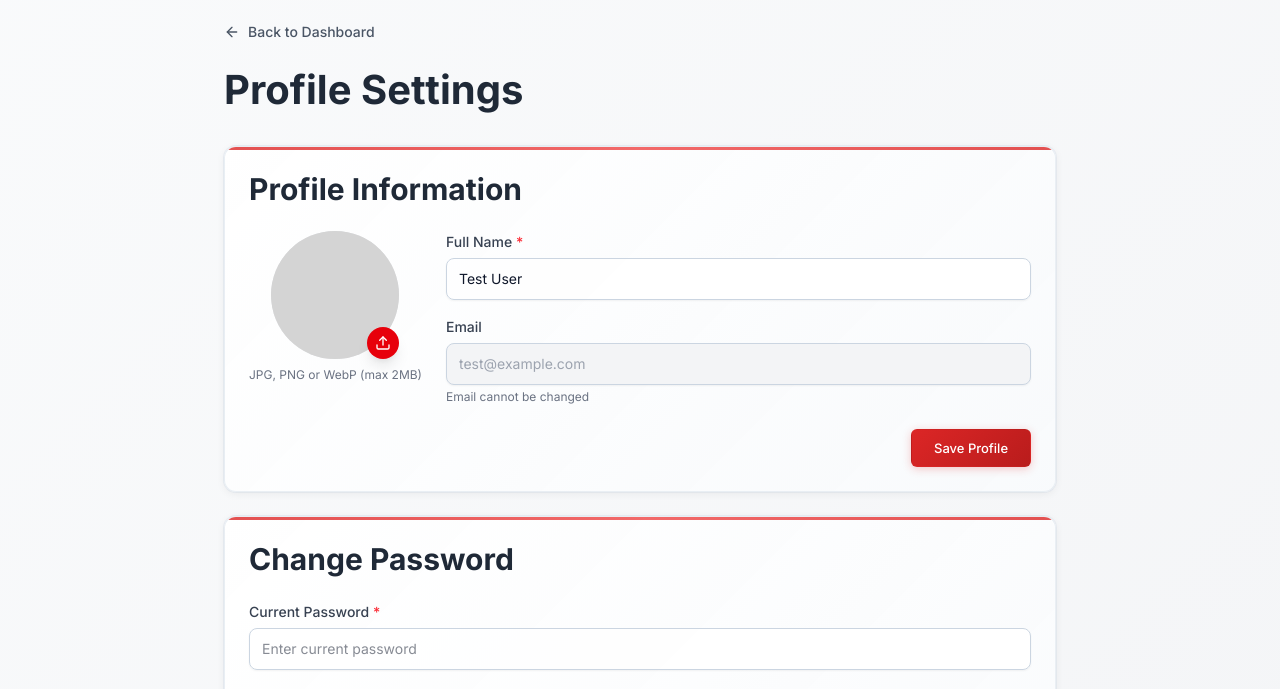
Test: ProfilePage › password form › should show validation error for password mismatch
Type "OldPass123" into the password field labelled "Current Password *" at (640, 649), box x1=249 y1=628 x2=1031 y2=670
(page scrolled)
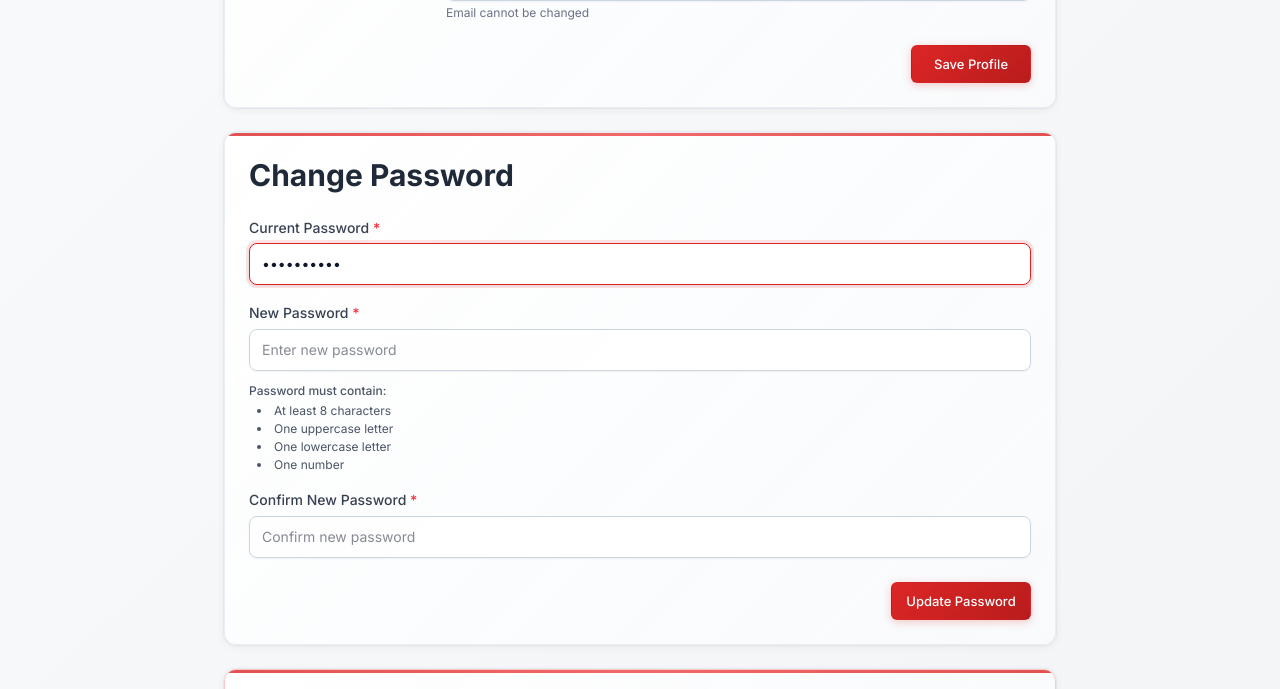
Type "NewPass123" into the password field labelled "New Password *" at (640, 350), box x1=249 y1=329 x2=1031 y2=371
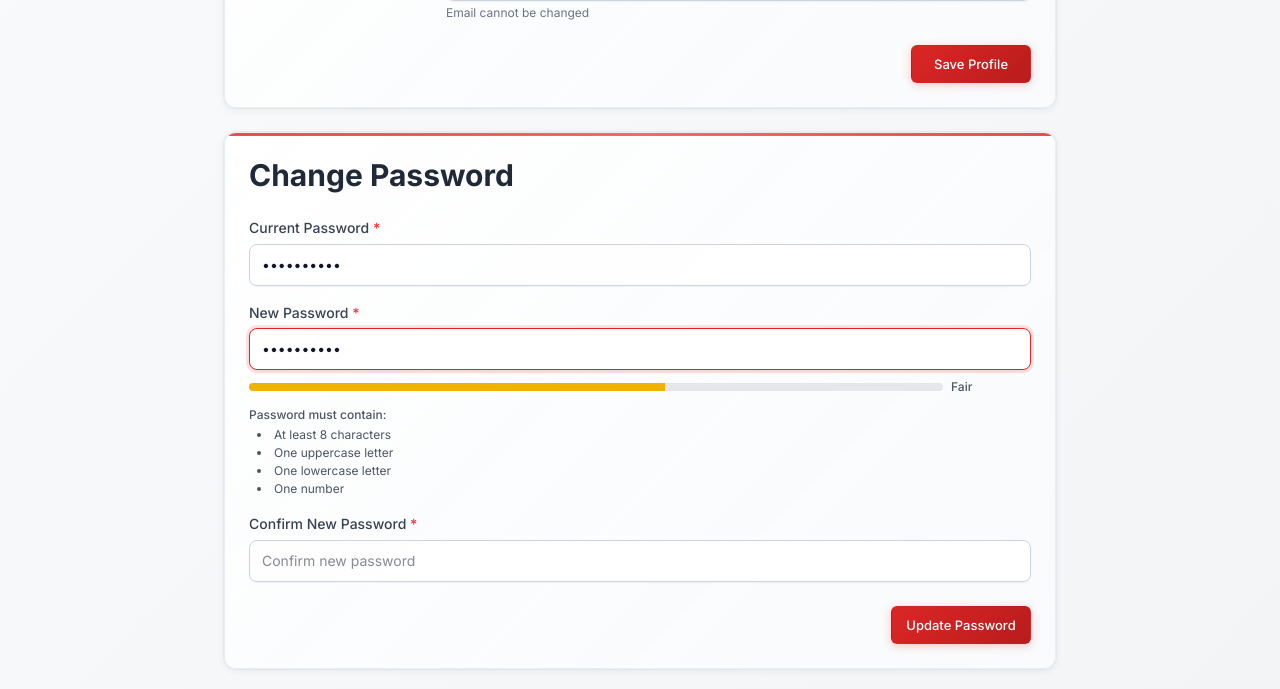
Type "DifferentPass123" into the password field labelled "Confirm New Password *" at (640, 561), box x1=249 y1=540 x2=1031 y2=582
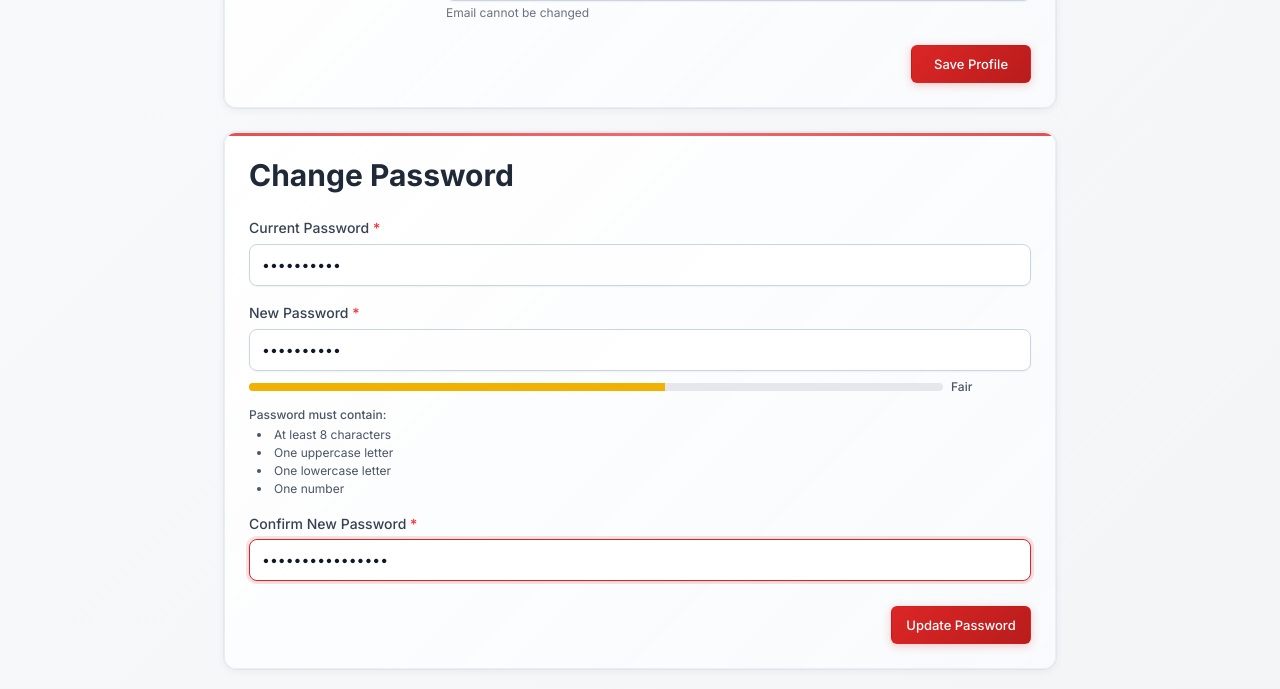
Click the button "Update Password" at (961, 625), box x1=891 y1=606 x2=1031 y2=644
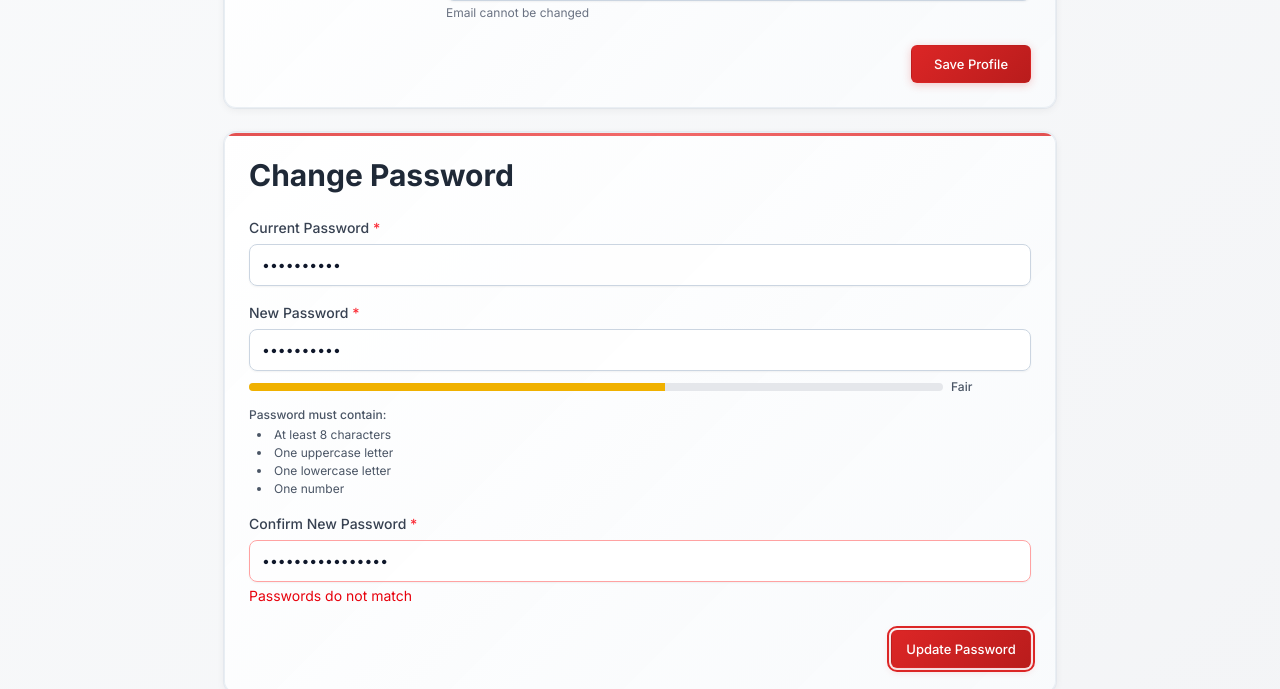
Check: the text "Passwords do not match" is shown, box x1=249 y1=587 x2=412 y2=604
